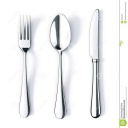Fork: (11, 4, 36, 120)
